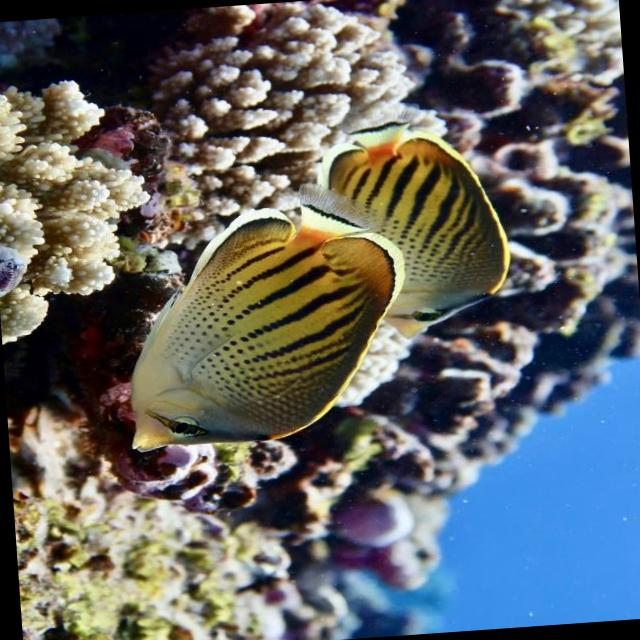ButterflyFish: (104, 193, 416, 467), (324, 100, 522, 362)
